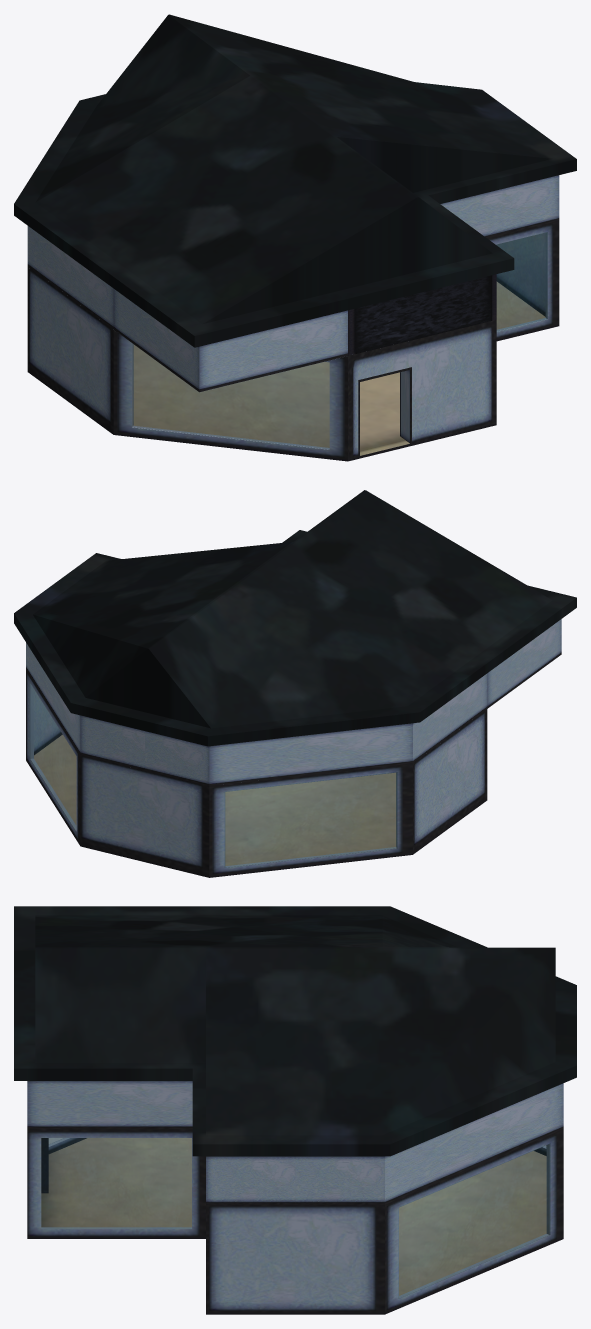
Rendered from bdwht1s.DAE.
3 views of the same model, one above another, from view 1: azimuth 30°, elevation 25°; view 2: azimuth 150°, elevation 25°; view 3: azimuth 270°, elevation 25° (orthographic). The views are drawn at different scales.
Visible parts, largest first — view 1: building_ledge03-Pivot, building_wallWindowGlass04; view 2: building_ledge03-Pivot, building_wallWindowGlass04; view 3: building_ledge03-Pivot, building_wallWindowGlass04.
Boxes of the visible parts, x1=… form: building_ledge03-Pivot: x1=14, y1=14, x2=576, y2=461; building_wallWindowGlass04: x1=132, y1=232, x2=547, y2=449; building_ledge03-Pivot: x1=14, y1=490, x2=576, y2=877; building_wallWindowGlass04: x1=30, y1=683, x2=397, y2=867; building_ledge03-Pivot: x1=14, y1=906, x2=576, y2=1314; building_wallWindowGlass04: x1=41, y1=1138, x2=550, y2=1298.
Size of the model in its own units: 36.45 by 18.1 by 36.45.
Materials: 2 (2 with a texture image).
